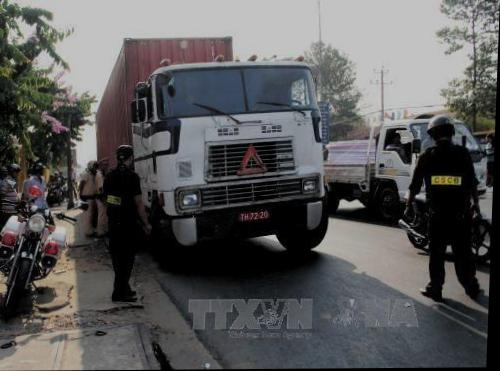License_Plate: (236, 210, 271, 226)
